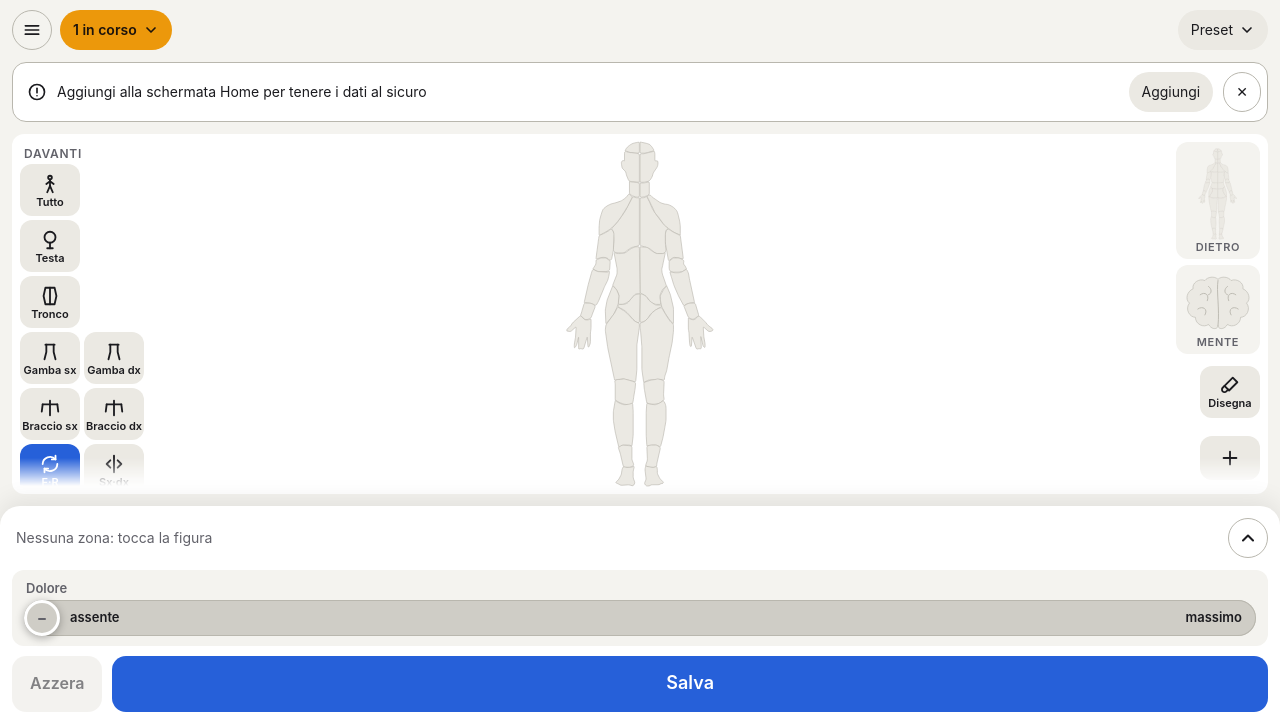
Test case: what an update carries › a note goes with the update and shows on its line
The image size is (1280, 720).
Click the button "1 in corso": (116, 30) [60, 10, 172, 50]
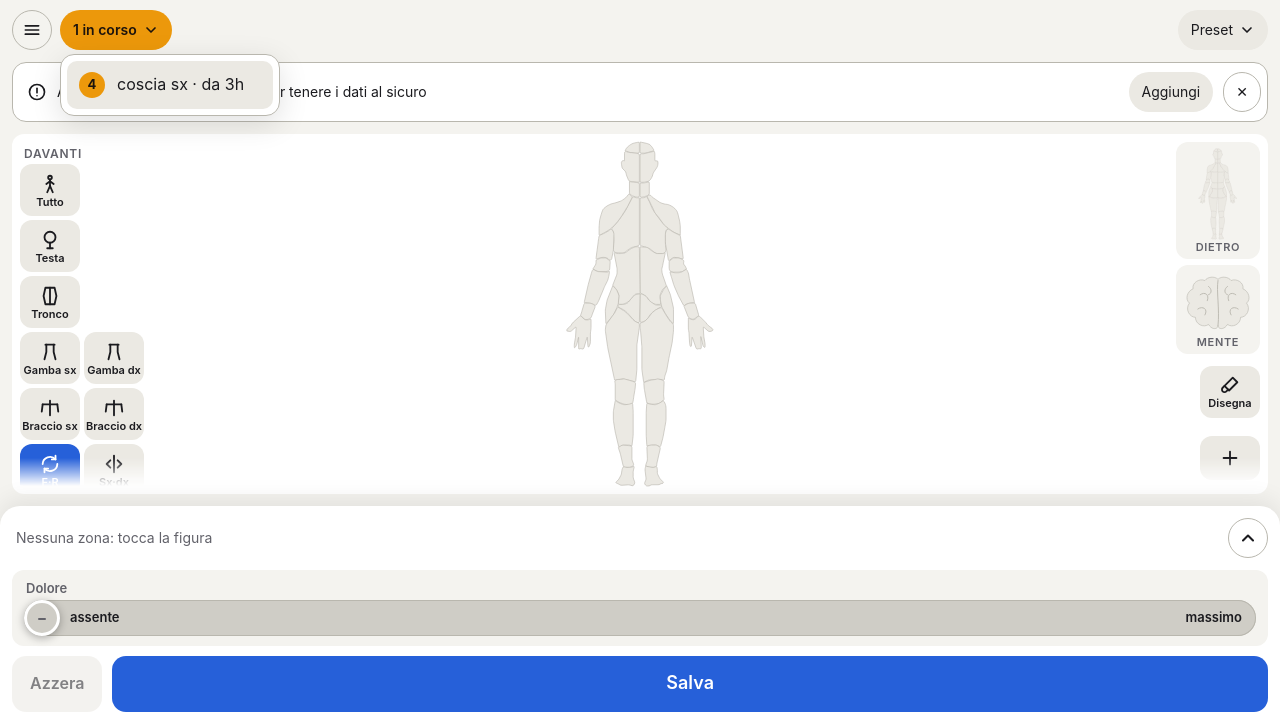
Click the menu item "4 coscia sx · da 3h": (170, 85) [67, 61, 273, 109]
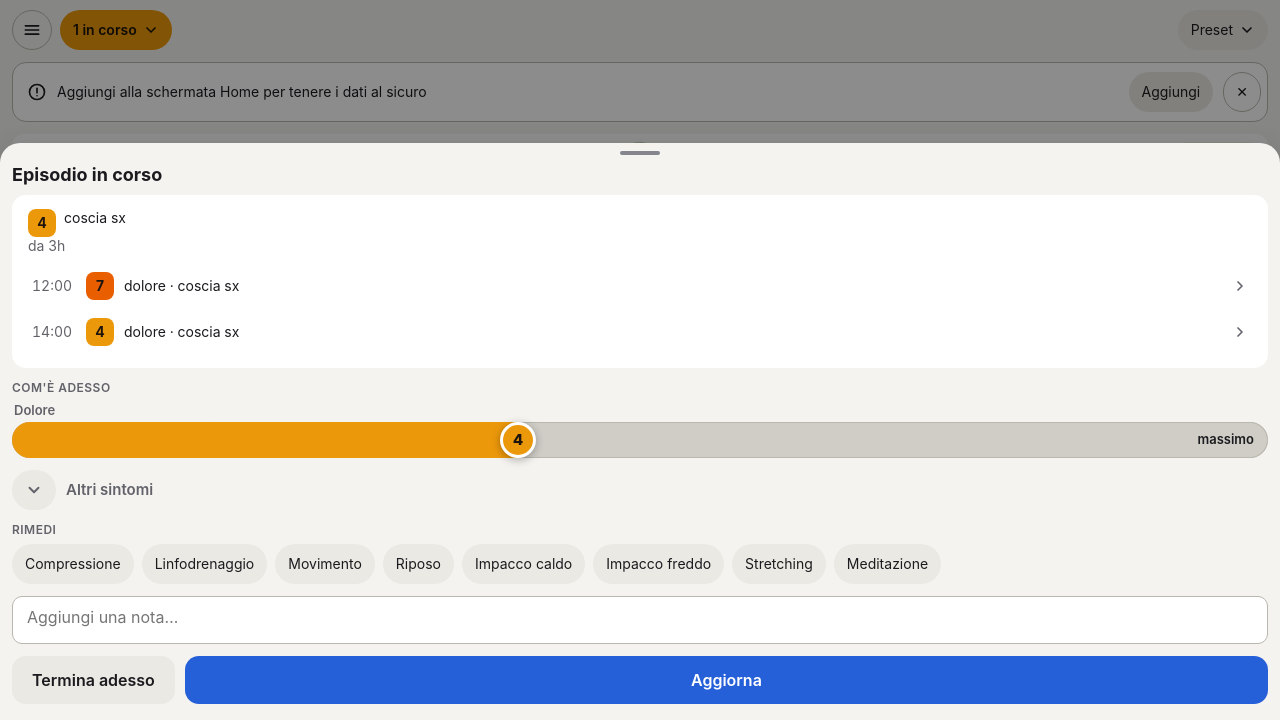
In the text box named "Note": (640, 620) [12, 596, 1268, 644], type "meglio dopo il caffè"
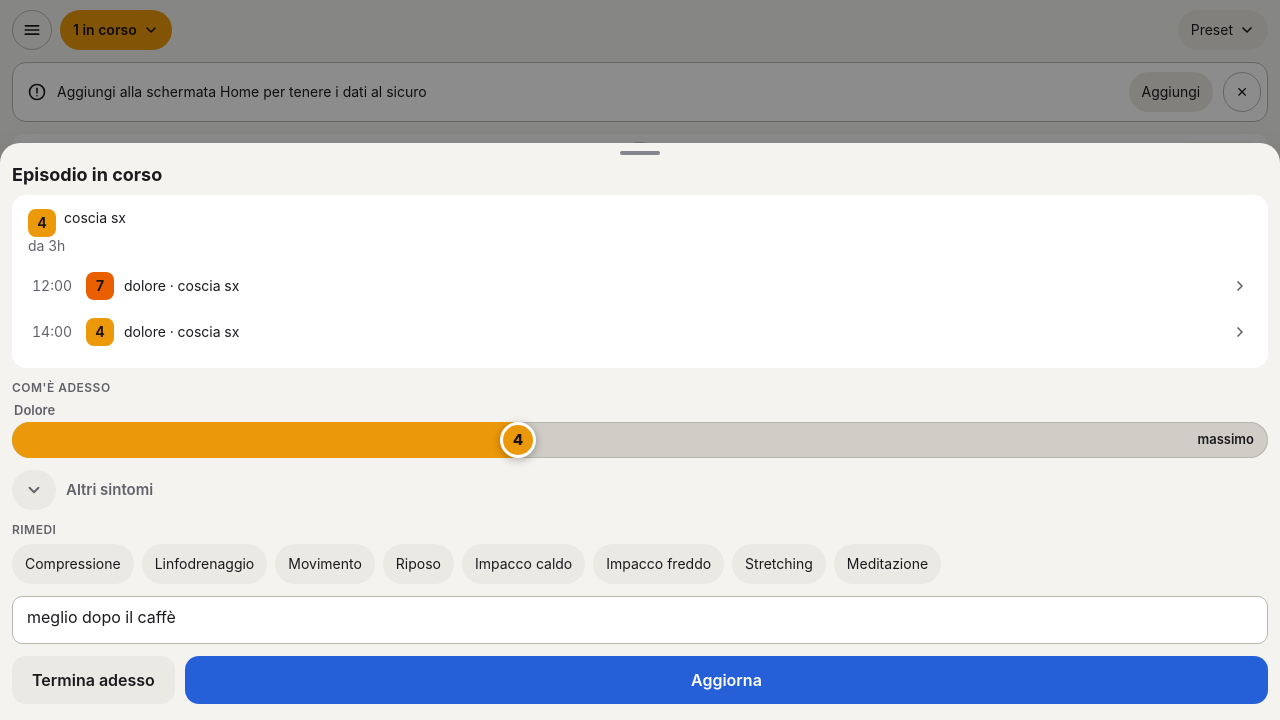
Click the button "Aggiorna": (726, 680) [185, 656, 1268, 704]
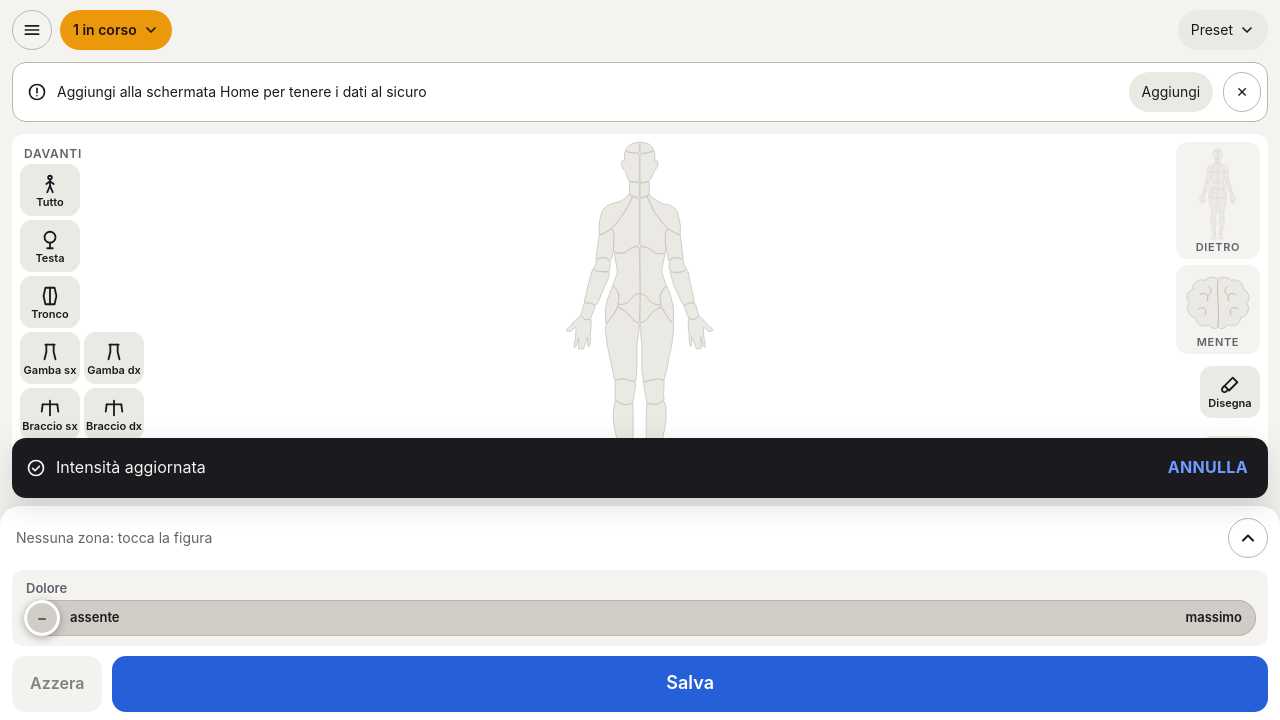
Check: the dialog is gone
Click the button "1 in corso": (116, 30) [60, 10, 172, 50]
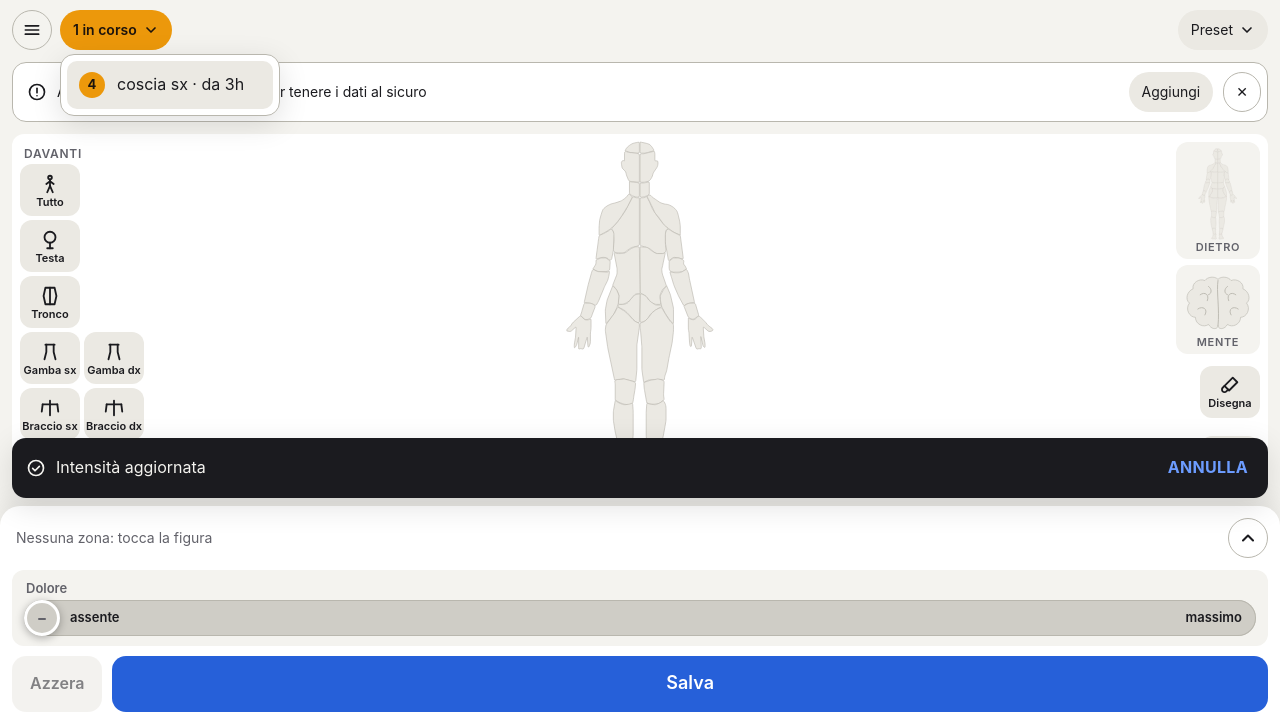
Click the menu item "4 coscia sx · da 3h": (170, 85) [67, 61, 273, 109]
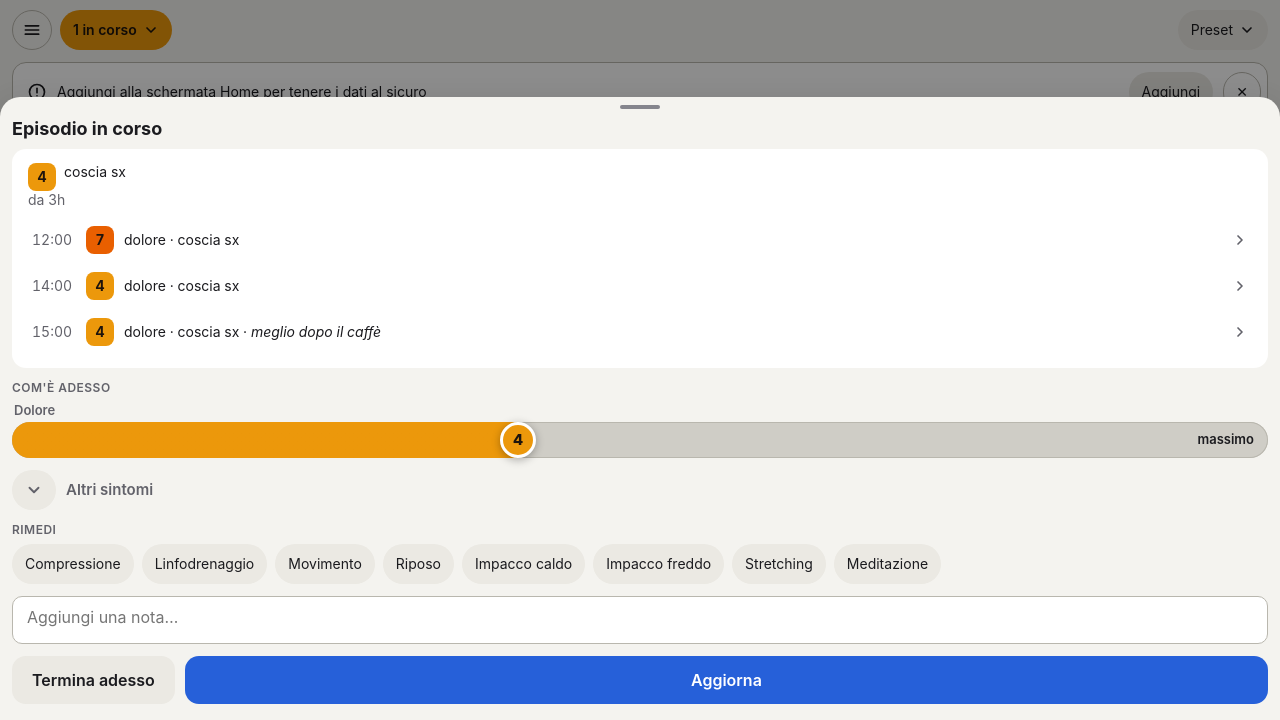
Check: the button "15:00 4 dolore · coscia sx · meglio dopo il caffè" is shown, box [28, 310, 1252, 354]
Check: the text box named "Note" is empty, box [12, 596, 1268, 644]
